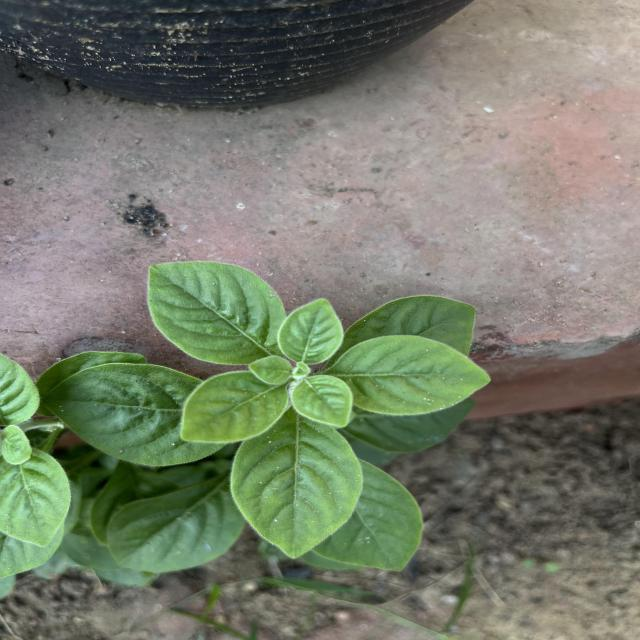Aerva lanata: (38, 358, 235, 469), (225, 410, 368, 561), (142, 259, 290, 368), (334, 331, 496, 418), (316, 294, 478, 372)
